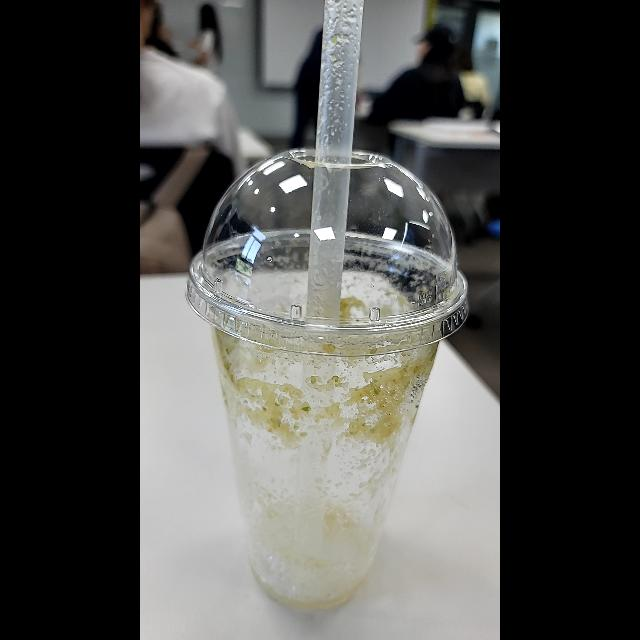plastic_cup: (184, 146, 476, 612)
plastic_cup_lid: (185, 148, 471, 352)
straw: (290, 0, 370, 568)
